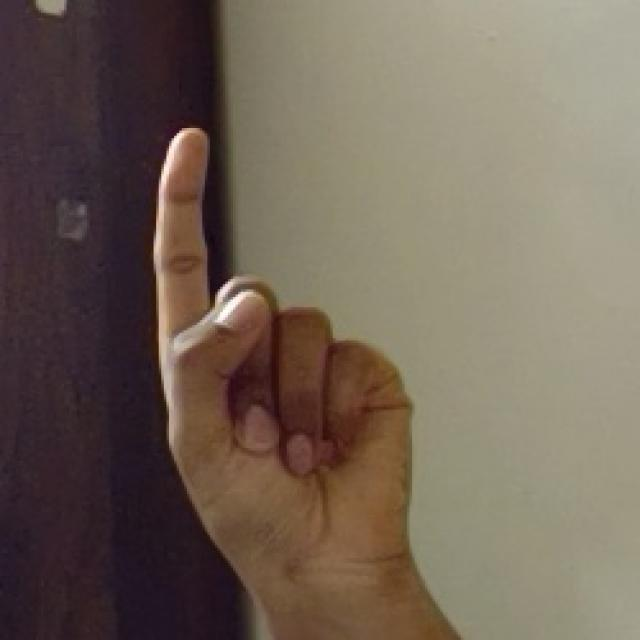Numeric-1: (150, 119, 414, 585)
